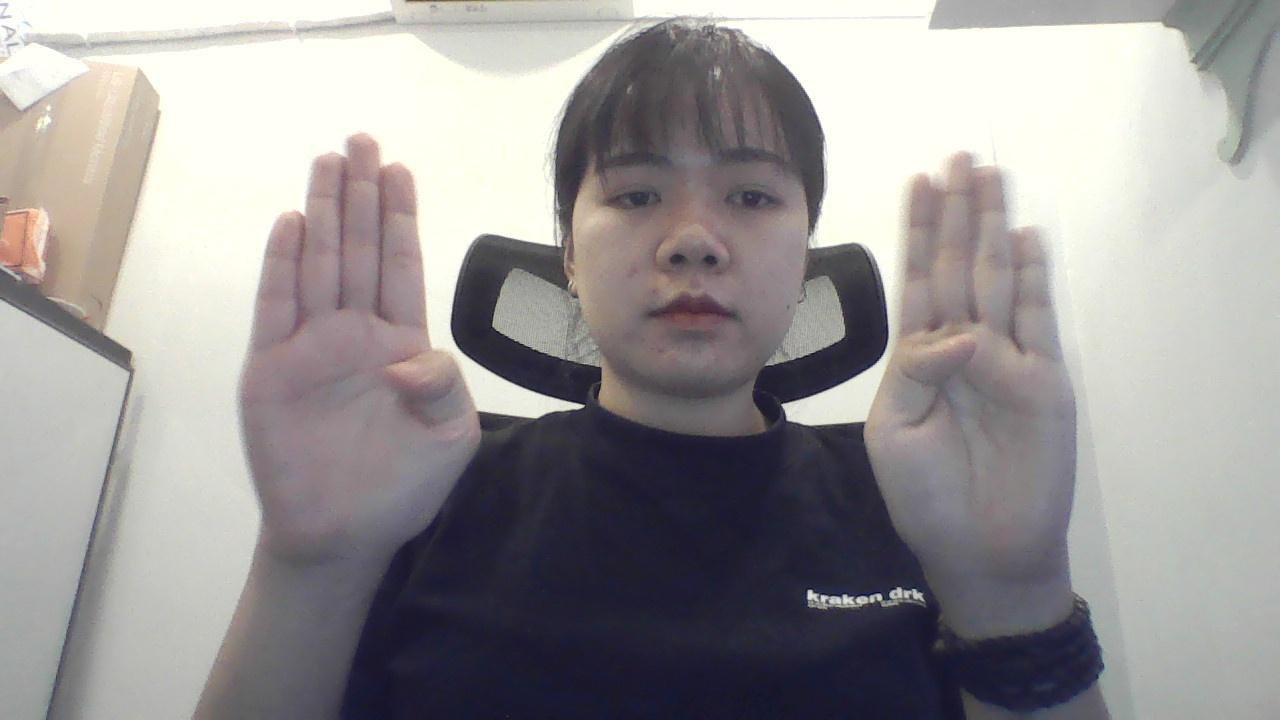B: (209, 107, 481, 613), (875, 144, 1108, 602)
